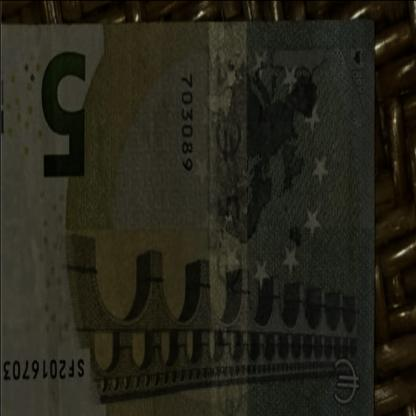euro_banknote: (1, 32, 376, 397)
